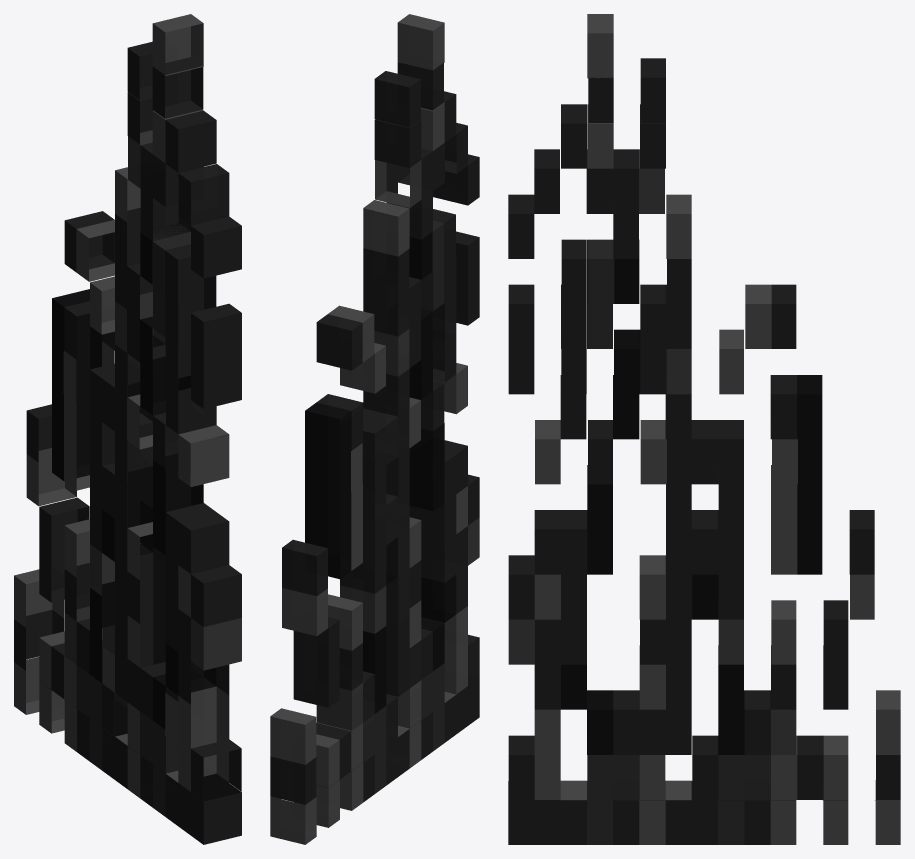
File: wall_scorchmark_2.gltf
The picture shows the model from 3 angles, left to right: view 1: azimuth 30°, elevation 25°; view 2: azimuth 150°, elevation 25°; view 3: azimuth 270°, elevation 25°; orthographic projection. The views are drawn at different scales.
Visible parts, largest first — view 1: wall_scorchmark_2; view 2: wall_scorchmark_2; view 3: wall_scorchmark_2.
Part boxes in pixels (box(x1,y1,x2,y2)): wall_scorchmark_2: box(14, 14, 241, 844); wall_scorchmark_2: box(270, 14, 479, 844); wall_scorchmark_2: box(508, 14, 900, 844).
Size of the model in its own units: 0.1017 by 1.99 by 0.8745.
1 material, 1 textured.
